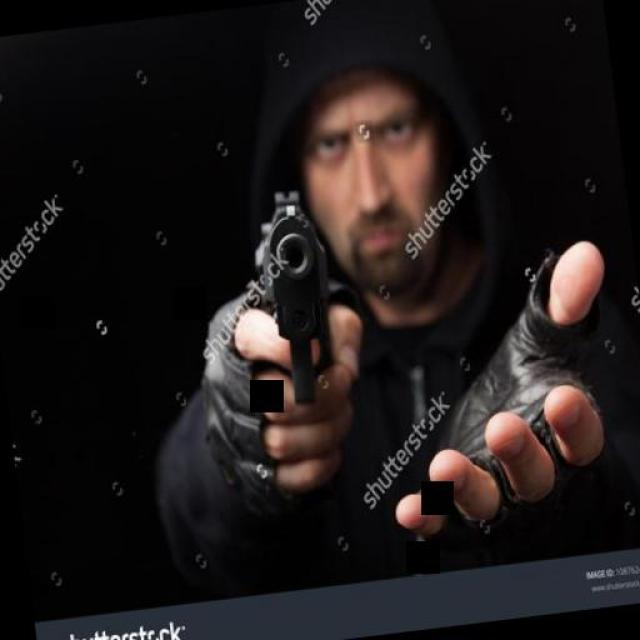gun: (244, 185, 355, 411)
